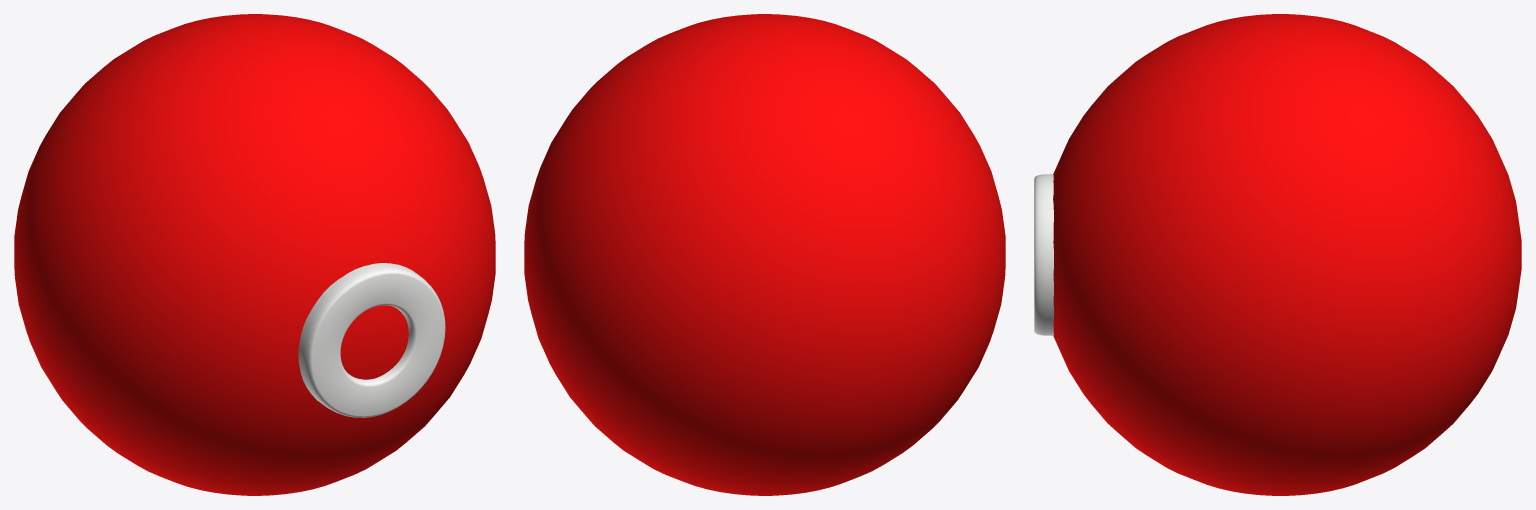
The picture shows the model from 3 angles, left to right: view 1: azimuth 30°, elevation 25°; view 2: azimuth 150°, elevation 25°; view 3: azimuth 270°, elevation 25°; orthographic projection.
Parts seen in each view (by area): view 1: Sphere001, Cylinder002; view 2: Sphere001; view 3: Sphere001, Cylinder002.
Boxes of the visible parts, x1=… form: Sphere001: x1=14, y1=14, x2=495, y2=495; Cylinder002: x1=298, y1=263, x2=445, y2=417; Sphere001: x1=524, y1=14, x2=1005, y2=495; Sphere001: x1=1053, y1=14, x2=1521, y2=495; Cylinder002: x1=1034, y1=174, x2=1053, y2=335.
Size of the model in its own units: 63.45 by 63.7 by 64.28.
